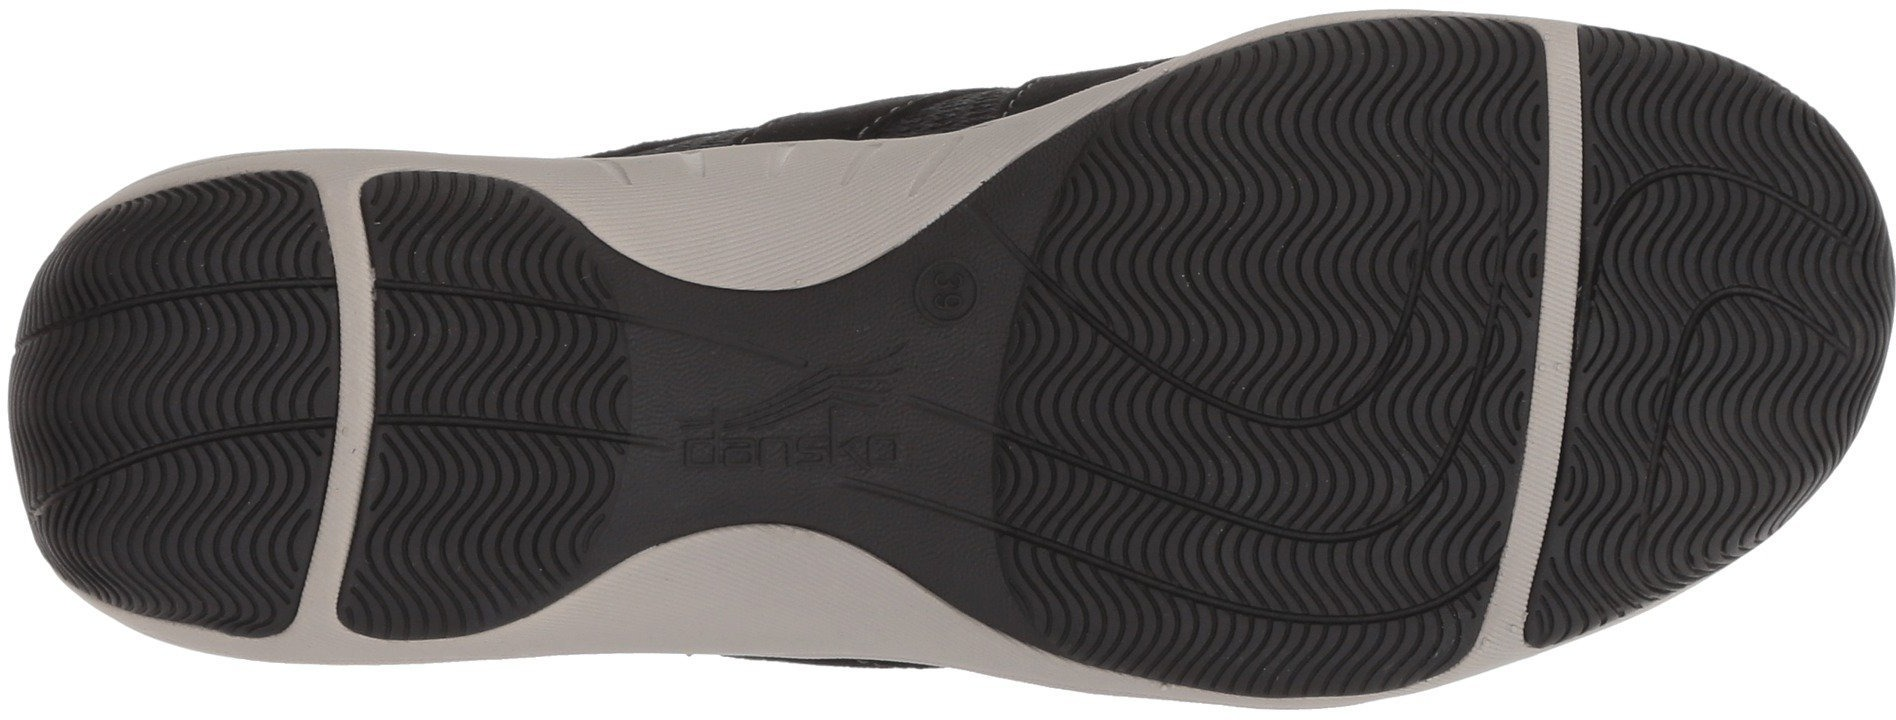chevron: (1102, 152, 1335, 410), (1008, 411, 1243, 650), (1258, 416, 1474, 643), (1592, 104, 1787, 334), (389, 224, 582, 422), (1589, 342, 1785, 530), (1345, 61, 1532, 249), (50, 258, 233, 440), (105, 450, 281, 612), (386, 437, 551, 601), (1348, 253, 1515, 410)
circle: (819, 399, 906, 491), (902, 250, 992, 336)
line: (1102, 152, 1335, 410)
text: (680, 384, 814, 486), (819, 399, 906, 491), (925, 263, 973, 322)
